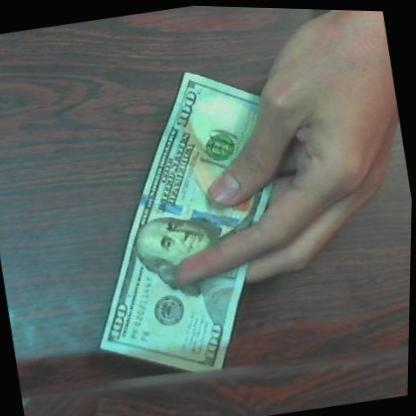one_hundred-front: (51, 41, 371, 395)
